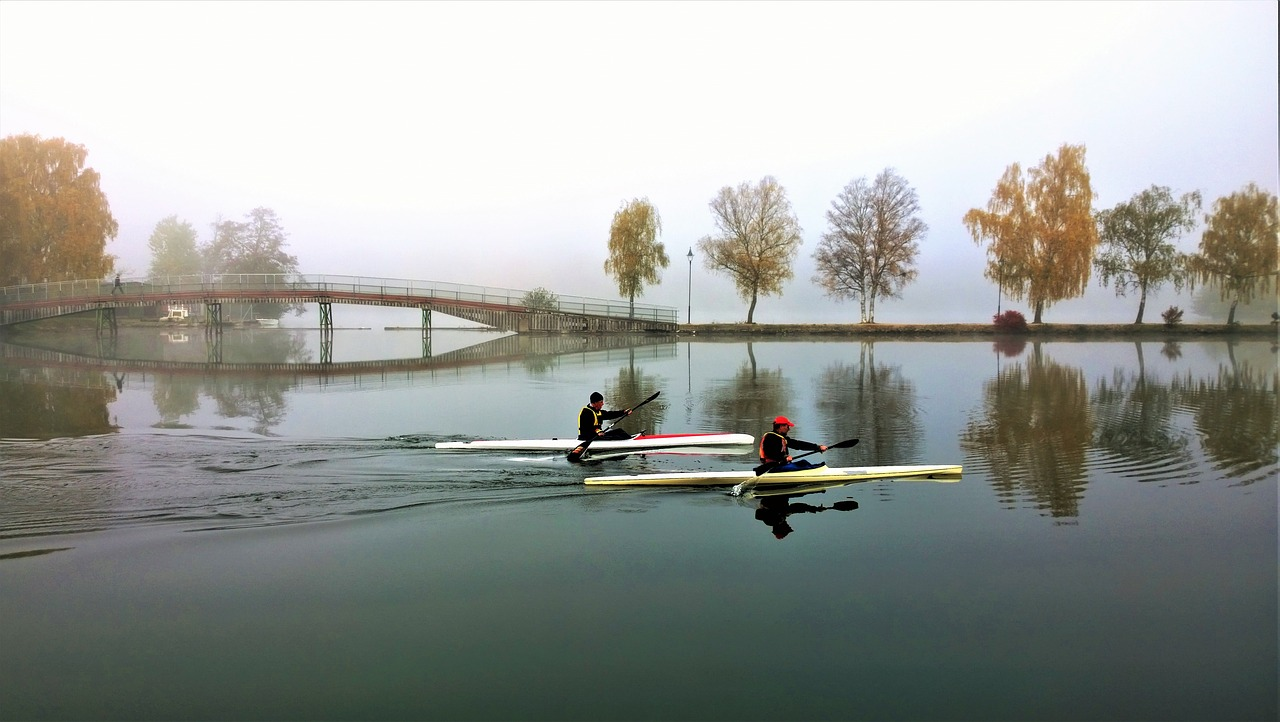kayak: (580, 462, 974, 487), (428, 431, 756, 452)
